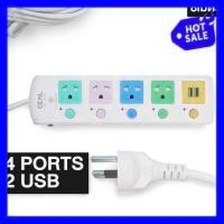three_eye_plug: (23, 72, 216, 129)
